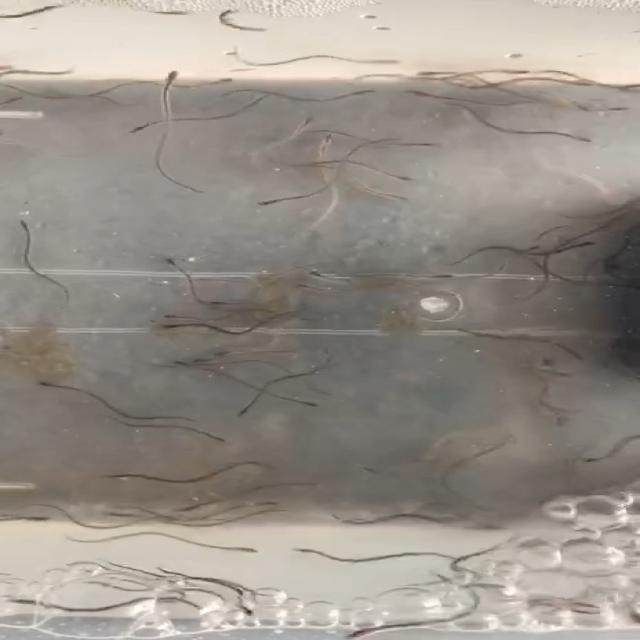active_glass_eel: (3, 594, 66, 613), (284, 113, 323, 139), (373, 189, 414, 210), (460, 514, 510, 531), (218, 538, 264, 556), (335, 84, 378, 102), (169, 499, 223, 513), (344, 625, 390, 640), (36, 376, 76, 393), (288, 546, 330, 562), (358, 464, 395, 482), (254, 194, 300, 208), (372, 169, 418, 183), (548, 131, 590, 146), (121, 120, 158, 136), (163, 68, 192, 88), (314, 132, 342, 152), (208, 346, 248, 360), (534, 352, 568, 368), (412, 65, 450, 79), (154, 252, 182, 271), (578, 452, 616, 466), (9, 218, 40, 235), (411, 140, 451, 153), (504, 61, 536, 77), (599, 105, 632, 120), (300, 267, 338, 280), (568, 98, 596, 115), (155, 311, 194, 323), (206, 75, 239, 89), (426, 266, 459, 280), (548, 412, 573, 430), (238, 603, 263, 621), (547, 368, 584, 380), (154, 322, 190, 334), (0, 95, 33, 108), (569, 240, 607, 251), (204, 296, 238, 308), (102, 509, 138, 520), (296, 397, 324, 411), (566, 76, 598, 88), (514, 244, 546, 256), (210, 431, 234, 447), (563, 347, 588, 362), (368, 56, 402, 67), (285, 283, 325, 292), (196, 357, 226, 369), (167, 357, 196, 369), (237, 406, 260, 421), (599, 259, 622, 274), (24, 513, 55, 524), (612, 81, 640, 92), (494, 262, 514, 274)
